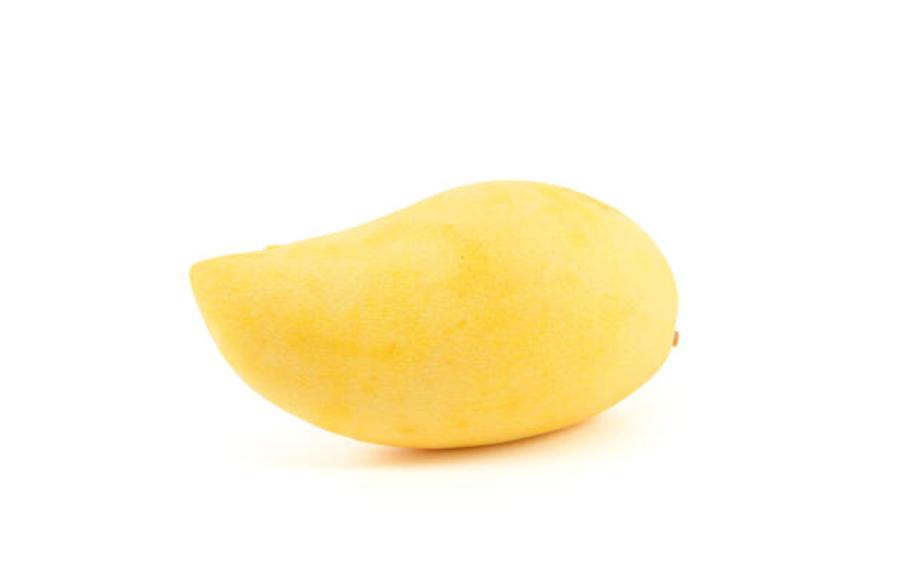mango: (184, 176, 682, 451)
